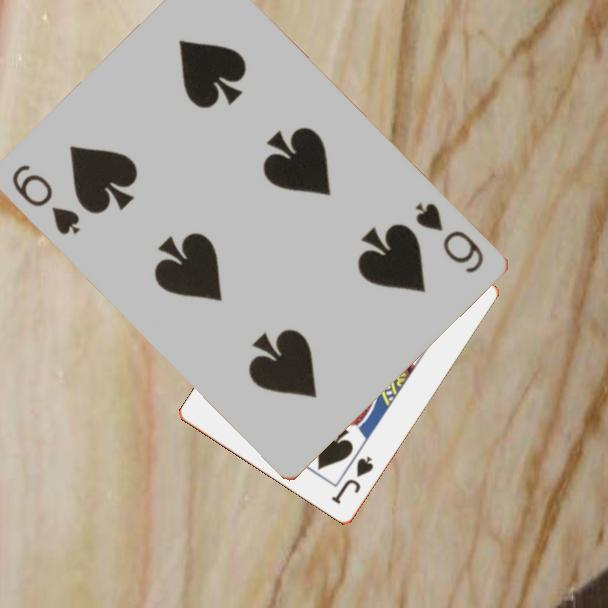s06: (412, 198, 488, 277), (9, 161, 84, 238)
s11: (328, 453, 377, 508)
